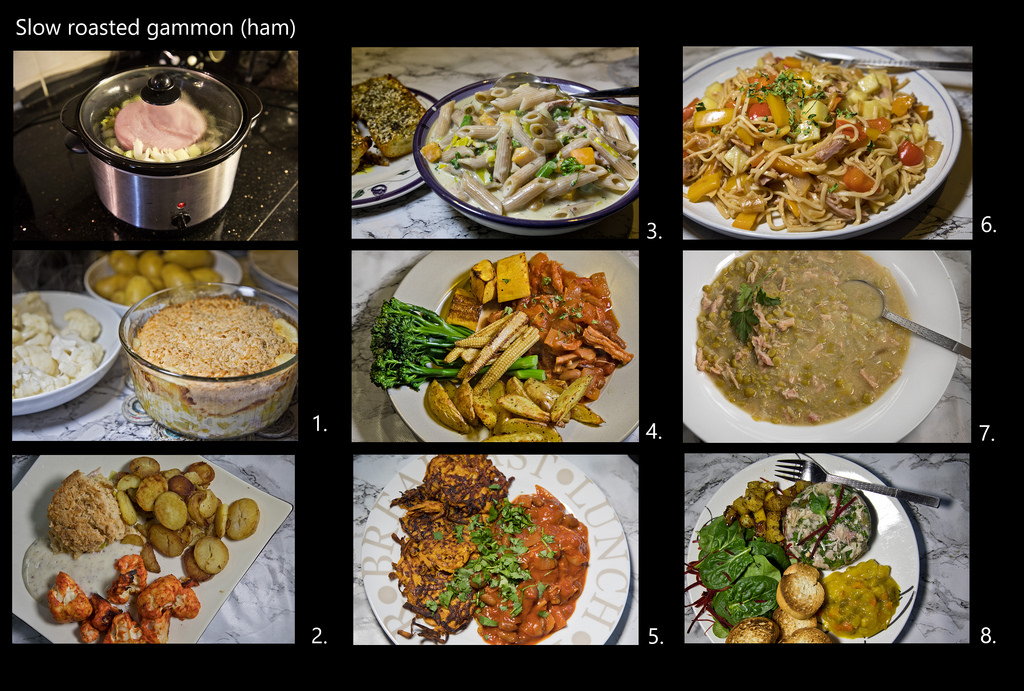boiled potatoes: (134, 470, 240, 550)
chopped lettuce: (381, 311, 440, 386)
